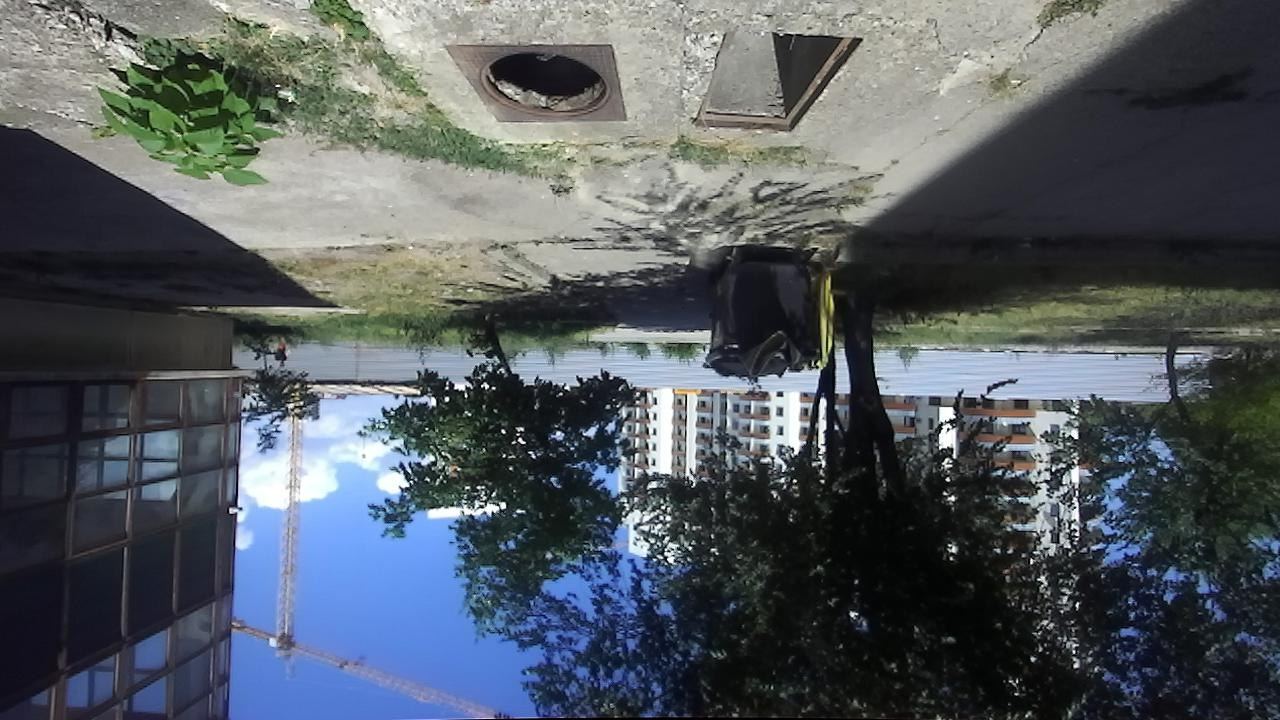drain: (690, 31, 867, 135), (478, 45, 611, 119)
